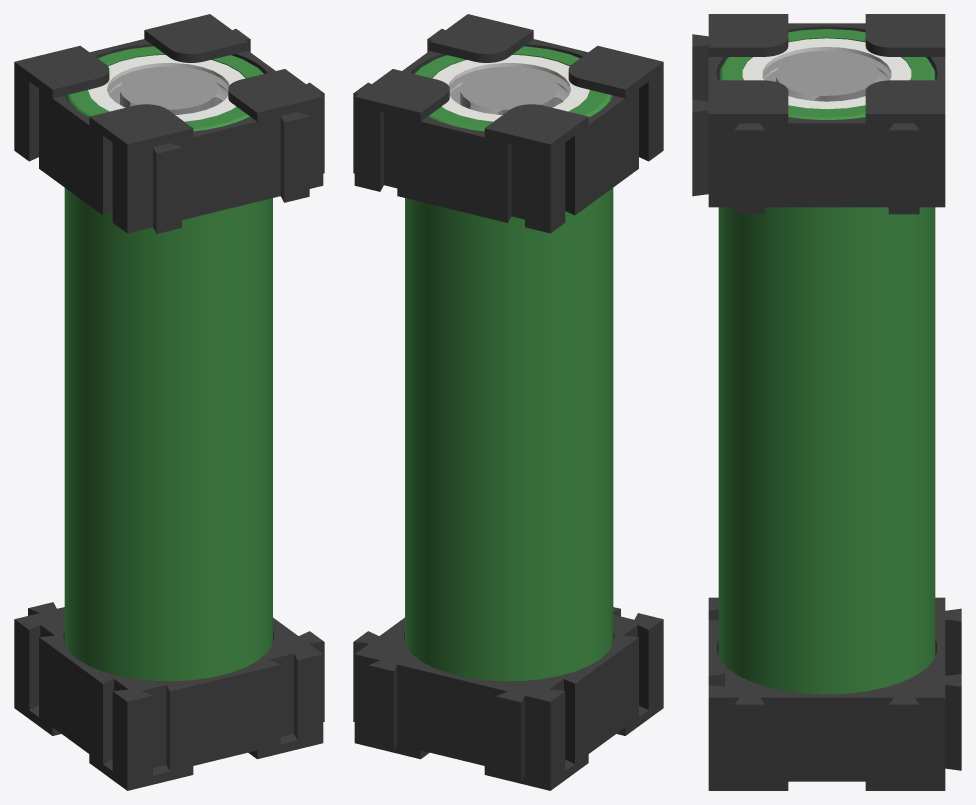
The model's file is Cell_Bracket_21700_Assembly_GLB.glb.
The picture shows the model from 3 angles, left to right: view 1: azimuth 30°, elevation 25°; view 2: azimuth 150°, elevation 25°; view 3: azimuth 270°, elevation 25°; orthographic projection. The views are drawn at different scales.
Visible parts, largest first — view 1: Hucre, SINGLE_21700_HOLDER (×2); view 2: Hucre, SINGLE_21700_HOLDER (×2); view 3: Hucre, SINGLE_21700_HOLDER (×2).
Boxes of the visible parts, bbox=[...] form: Hucre: bbox=[64, 46, 272, 681]; SINGLE_21700_HOLDER (×2): bbox=[14, 14, 324, 790]; Hucre: bbox=[405, 46, 613, 681]; SINGLE_21700_HOLDER (×2): bbox=[353, 14, 663, 790]; Hucre: bbox=[718, 29, 935, 694]; SINGLE_21700_HOLDER (×2): bbox=[692, 14, 961, 790].
Bounding box in the file's own units: 0.0246 × 0.0726 × 0.0262.
